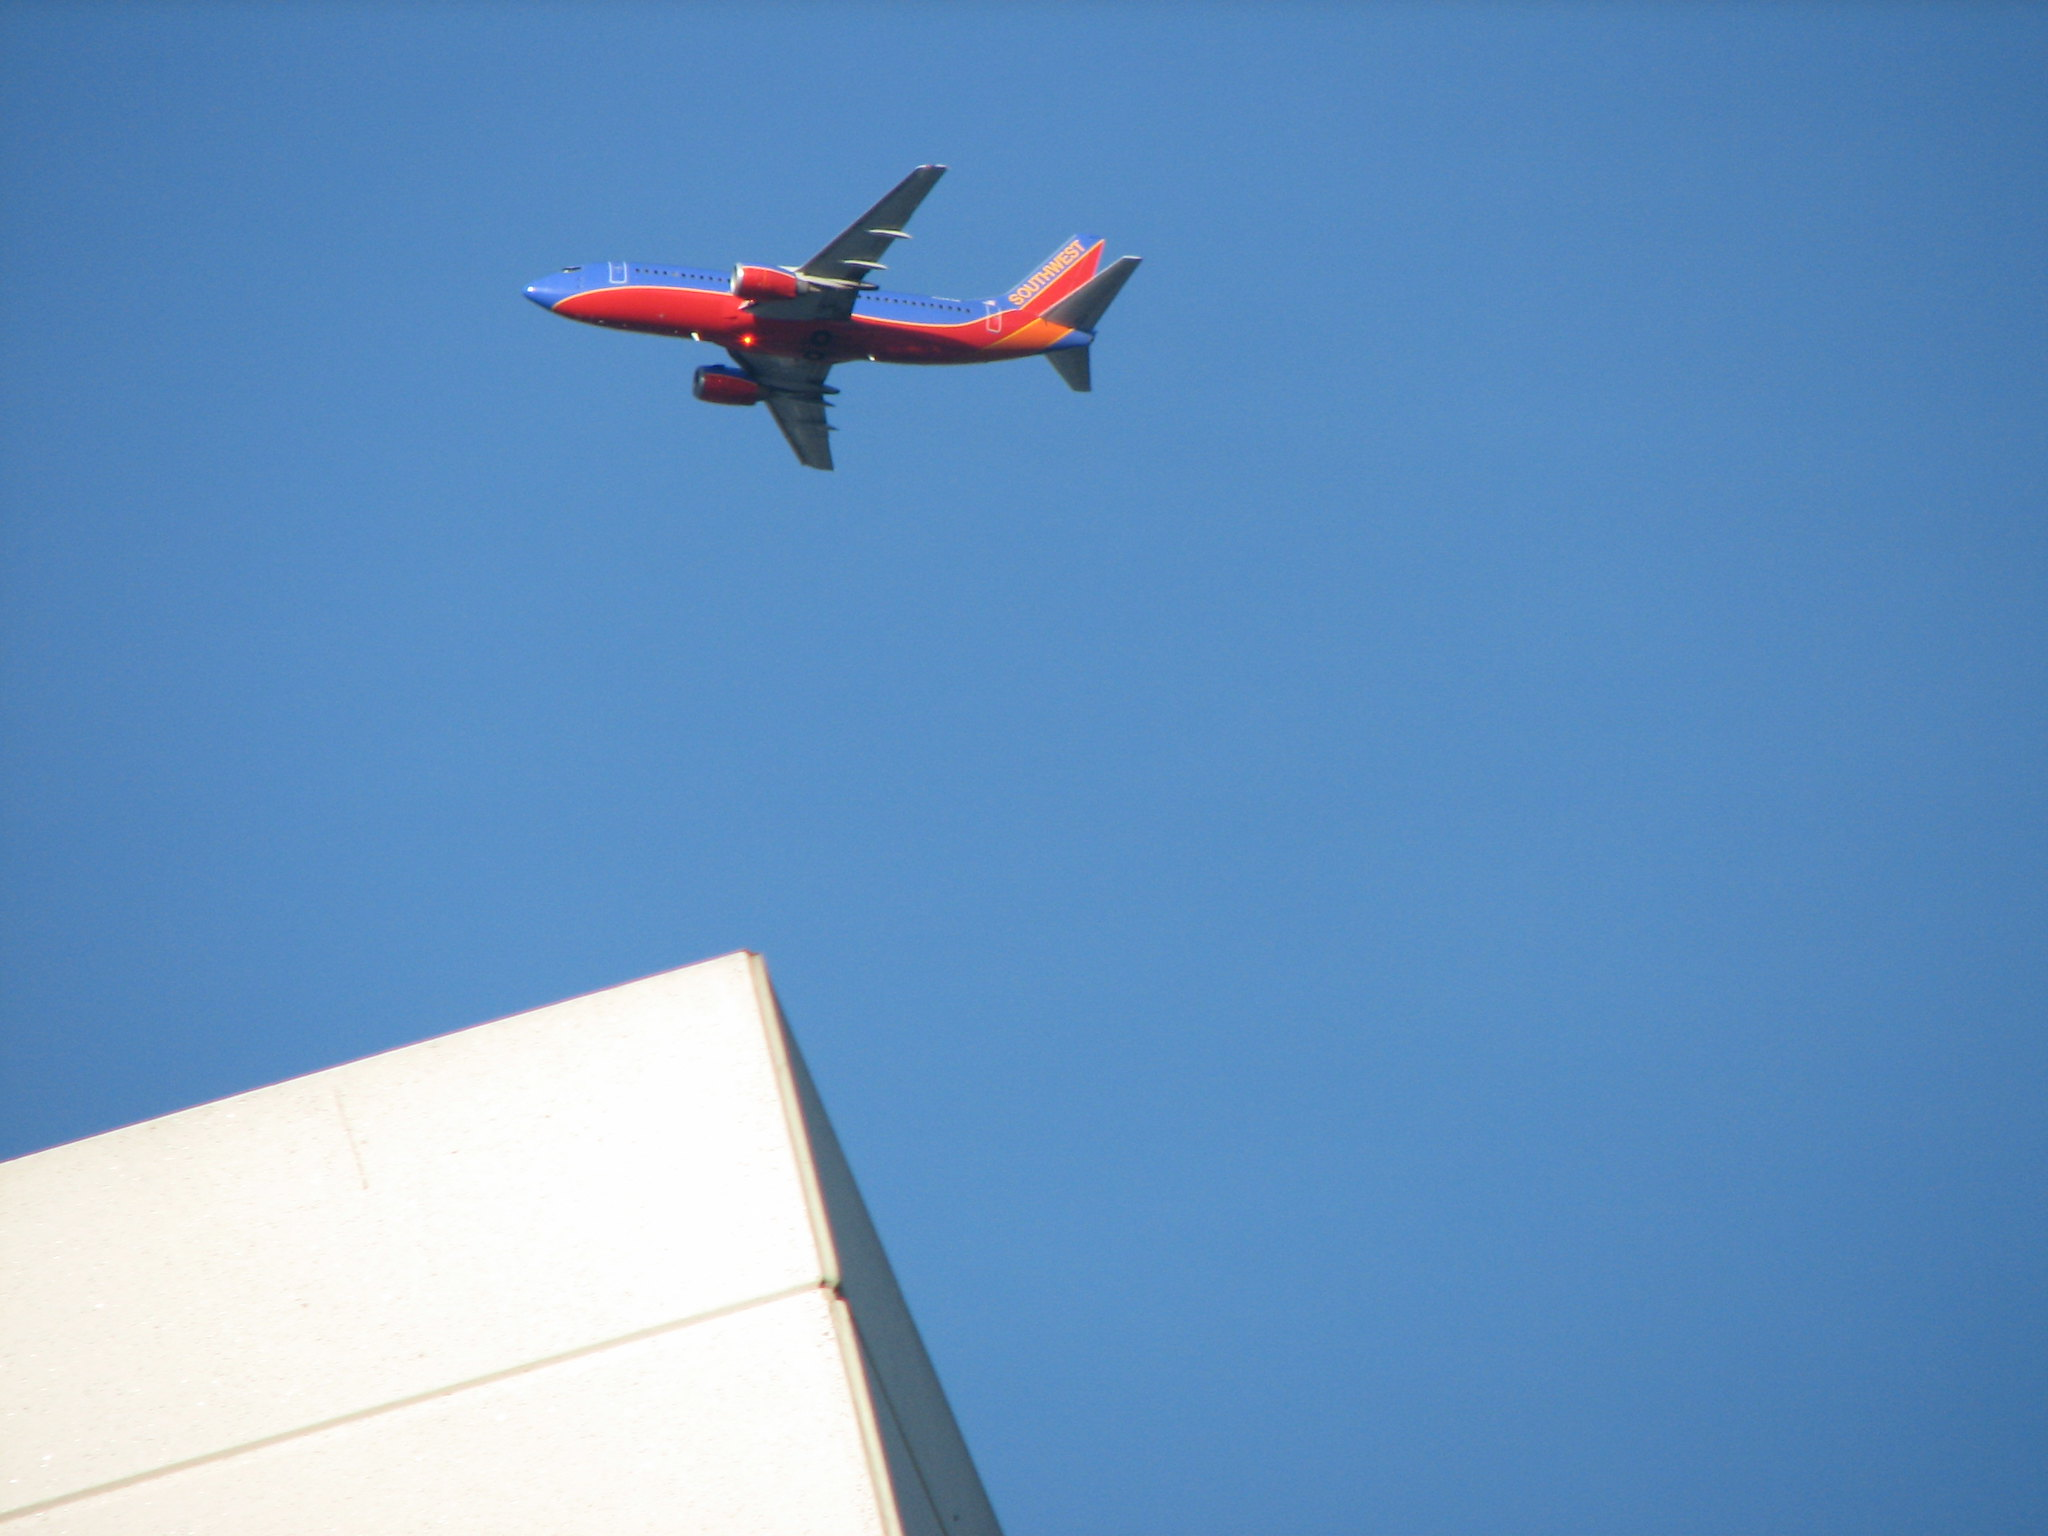aeroplane: (505, 145, 1168, 482)
